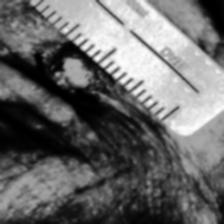Potentially Malignant Skin Tumors: (8, 54, 96, 111)
